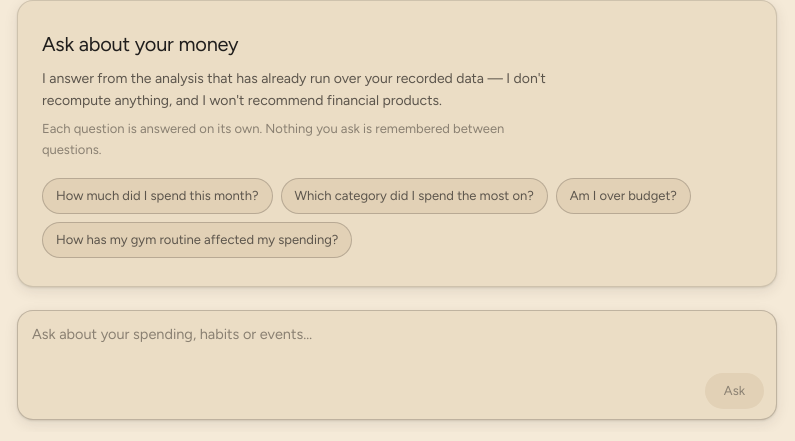
asking a question › never renders raw HTML from a model answer
The image size is (795, 441).
Type "How much did I spend?" into the text box named "ask a question" at (397, 343), box [30, 321, 764, 365]
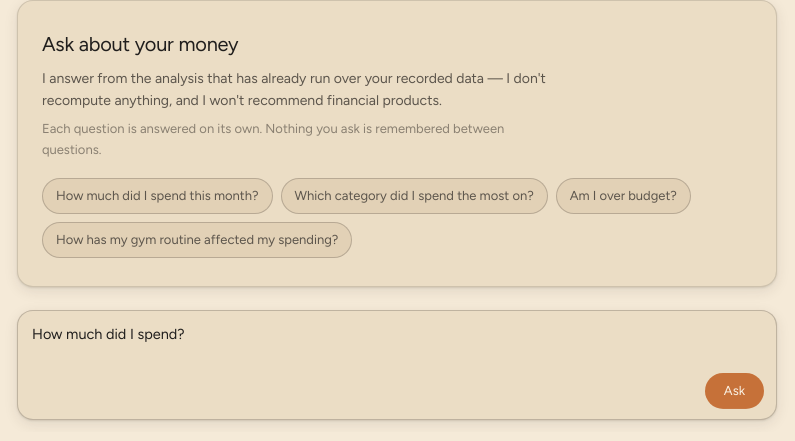
Click the button "Ask" at (734, 391), box [705, 373, 764, 409]
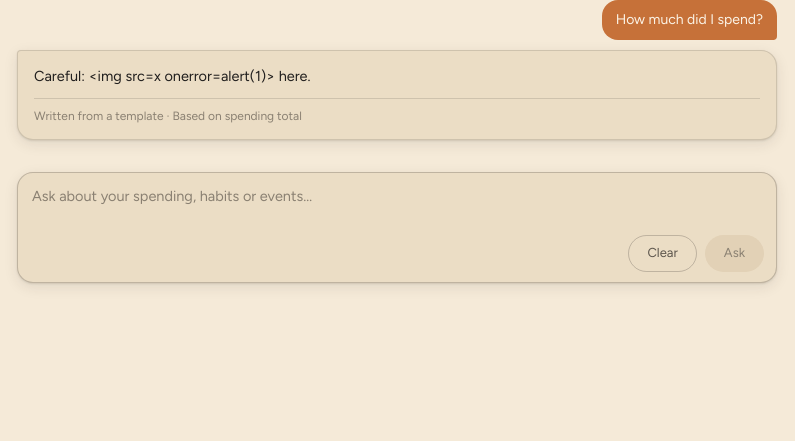
expect the text "Careful: <img src=x onerror=alert(1)> here." is shown: met, box [34, 67, 310, 85]
